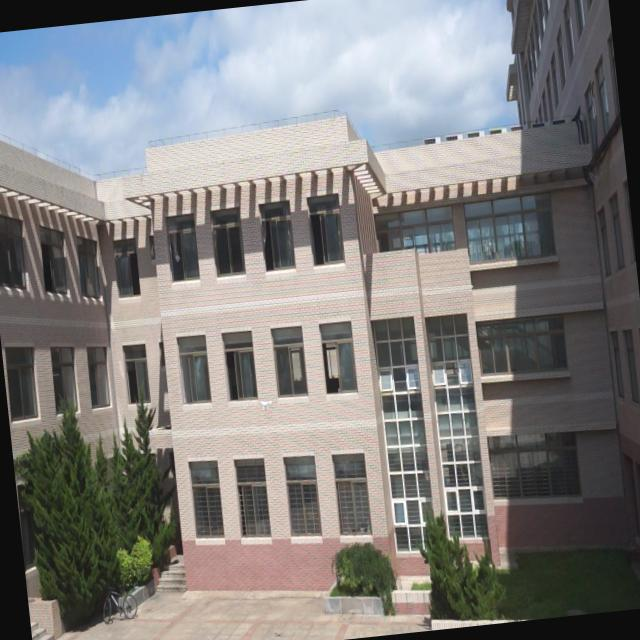drone: (257, 396, 272, 412)
